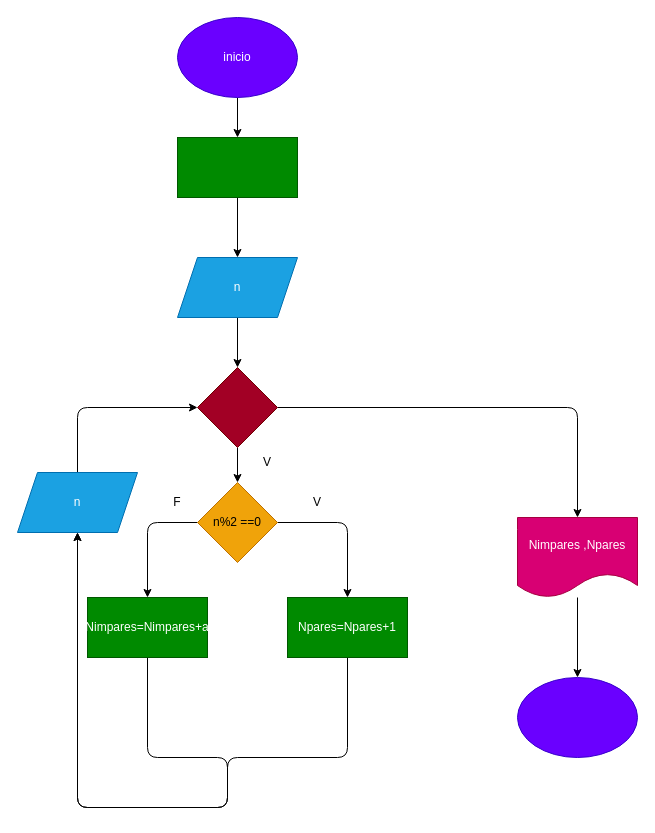
This 655x833 diagram has some shape labels left out. Here are the shapes that lost their labels. From the top down, the centre of each, then its label:
At point (237, 167): "Npares=0 Nimpares=0".
At point (237, 407): "n!=0".
At point (577, 717): "fin".
